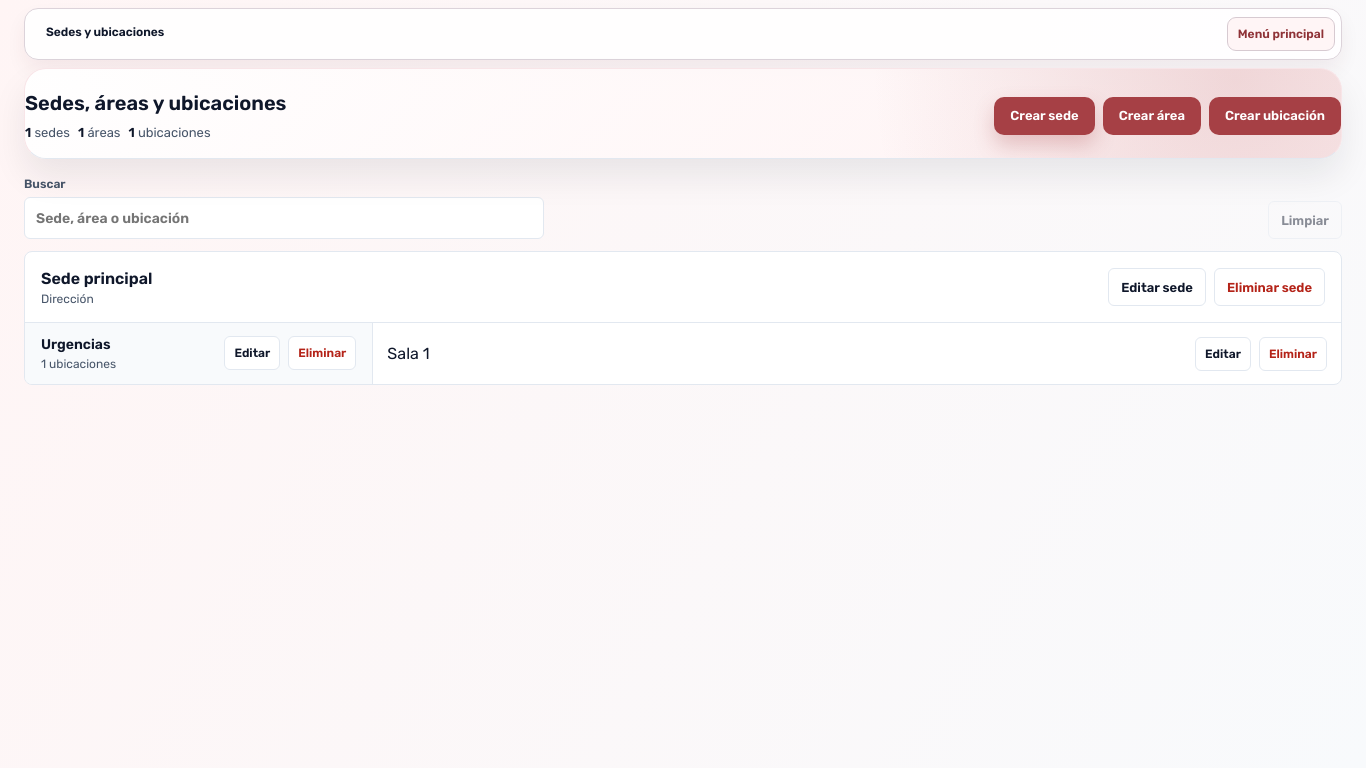
Test: LocationsManagementComponent › abre el modal para crear una ubicación
The width and height of the screenshot is (1366, 768).
Click the button "Crear ubicación".
click(1275, 116)  # box [1209,96,1341,134]
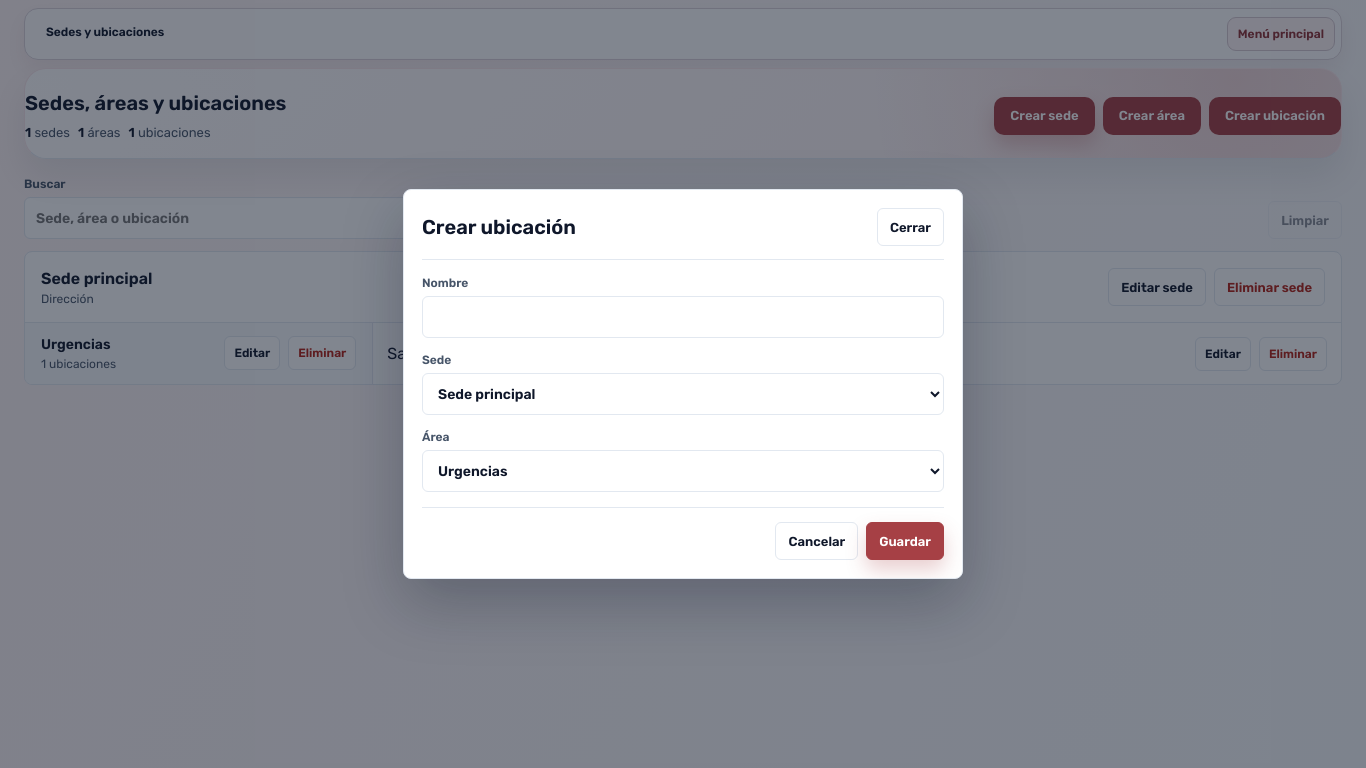
Expected: the dialog with class "editor-modal" is shown, [403,189,963,579]
Expected: the dropdown named "editorArea" is shown, [422,450,944,492]
